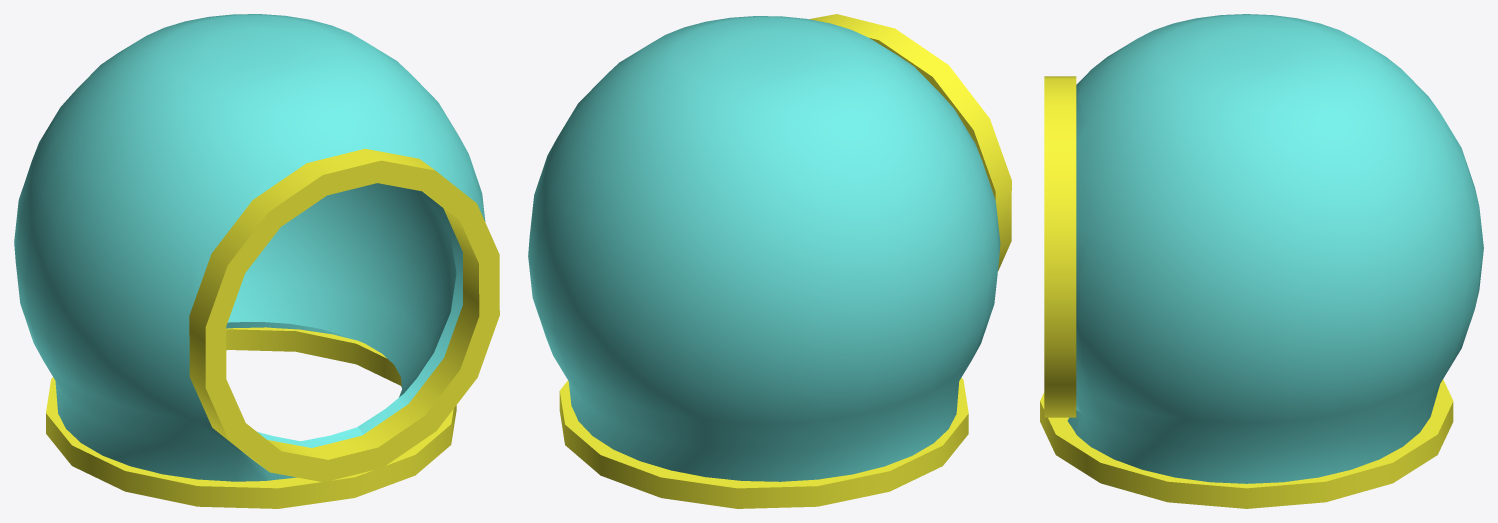
Rendered from Helmet.obj.
The picture shows the model from 3 angles, left to right: view 1: azimuth 30°, elevation 25°; view 2: azimuth 150°, elevation 25°; view 3: azimuth 270°, elevation 25°; orthographic projection.
Parts seen in each view (by area): view 1: P_Helmet; view 2: P_Helmet; view 3: P_Helmet.
Part boxes in pixels (<box>): P_Helmet: <box>14,14,499,508</box>; P_Helmet: <box>528,14,1011,508</box>; P_Helmet: <box>1040,14,1483,508</box>.
Size of the model in its own units: 2 by 1.74 by 1.87.
1 material, 1 textured.
